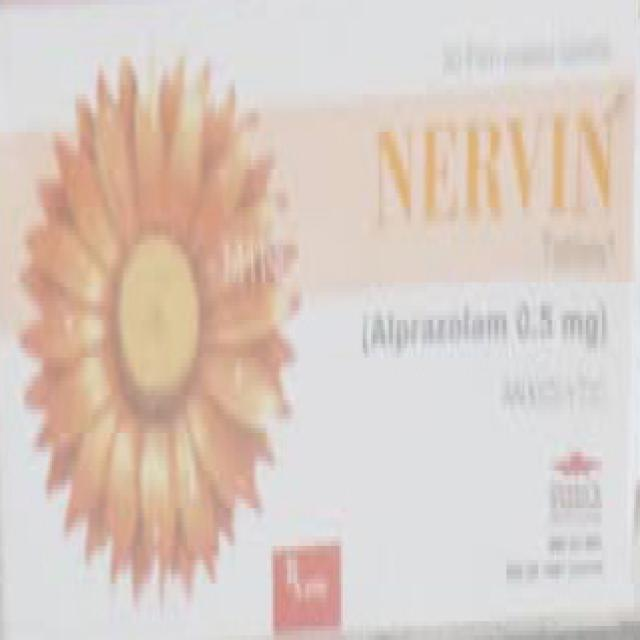drug-name: (372, 110, 622, 228)
